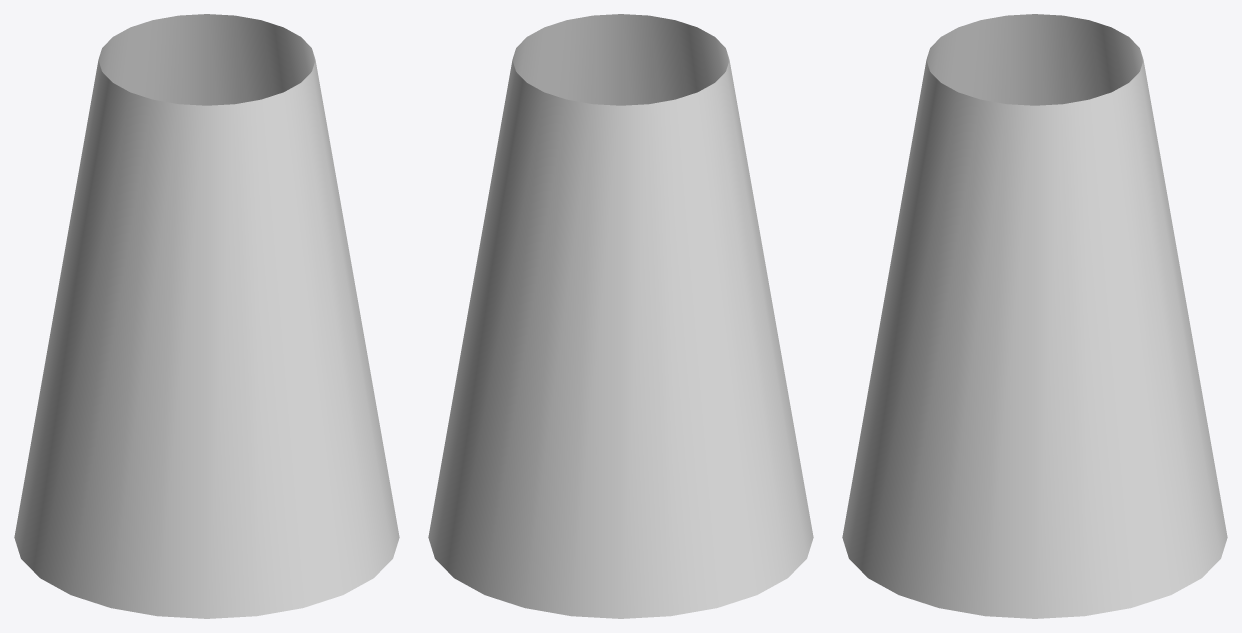
Rendered from ray_vfx3.fbx.
3 views of the same model, side by side, from view 1: azimuth 30°, elevation 25°; view 2: azimuth 150°, elevation 25°; view 3: azimuth 270°, elevation 25° (orthographic).
Visible parts, largest first — view 1: ray_vfx3; view 2: ray_vfx3; view 3: ray_vfx3.
Part boxes in pixels (x1,y1,x2,y2): ray_vfx3: (14,14,399,618); ray_vfx3: (428,14,813,618); ray_vfx3: (842,14,1227,618).
Size of the model in its own units: 3.6 by 3.6 by 4.92.
